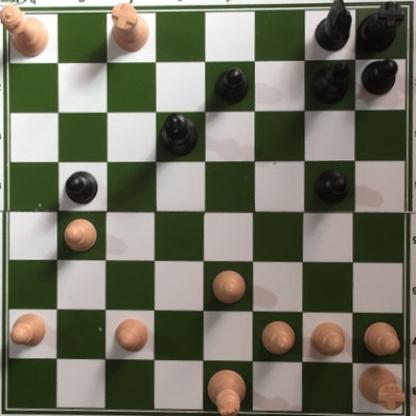black-bishop: (306, 59, 349, 103)
black-king: (157, 109, 200, 157)
black-knight: (314, 1, 354, 54)
black-pawn: (360, 57, 399, 96), (212, 66, 249, 105), (313, 166, 349, 205), (63, 169, 98, 205)
black-rook: (354, 1, 405, 55)
white-king: (205, 365, 248, 416)
white-pawn: (112, 314, 151, 354), (209, 268, 248, 306), (61, 216, 99, 254), (257, 319, 297, 355), (309, 321, 347, 358), (360, 322, 399, 357), (10, 311, 47, 346)
white-queen: (1, 1, 49, 57)
white-rook: (353, 361, 408, 410), (105, 2, 148, 55)
